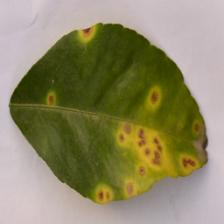canker: (90, 91, 208, 212)
